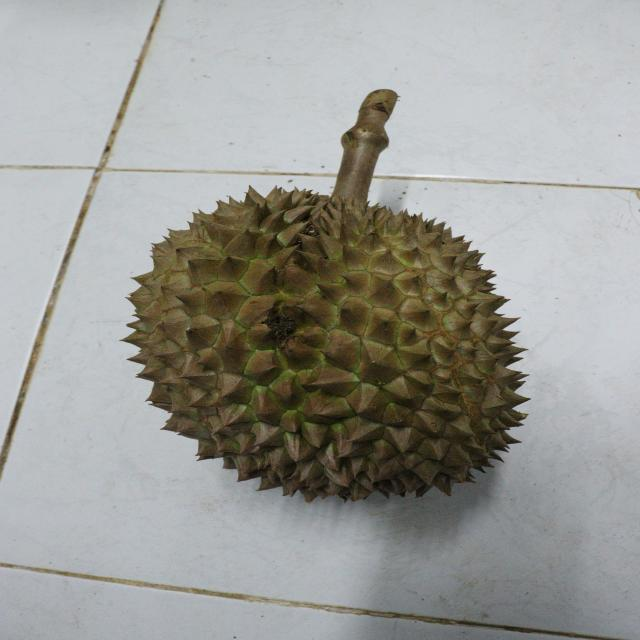mature: (118, 182, 528, 496)
